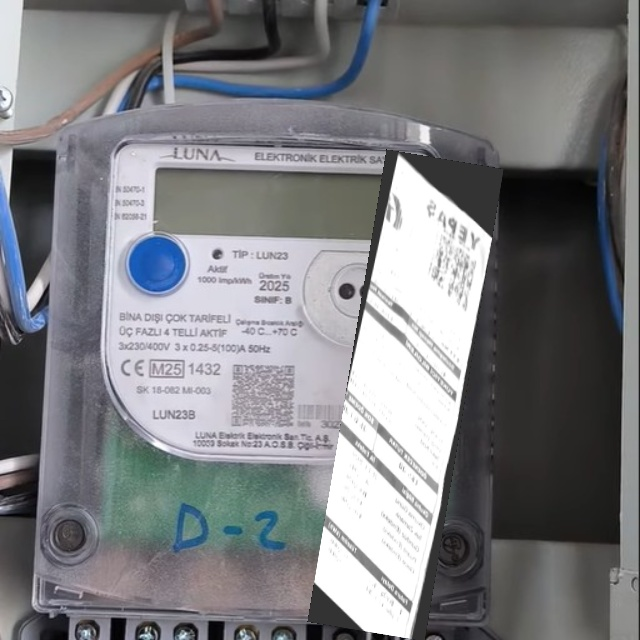electricity-bill: (306, 148, 503, 640)
